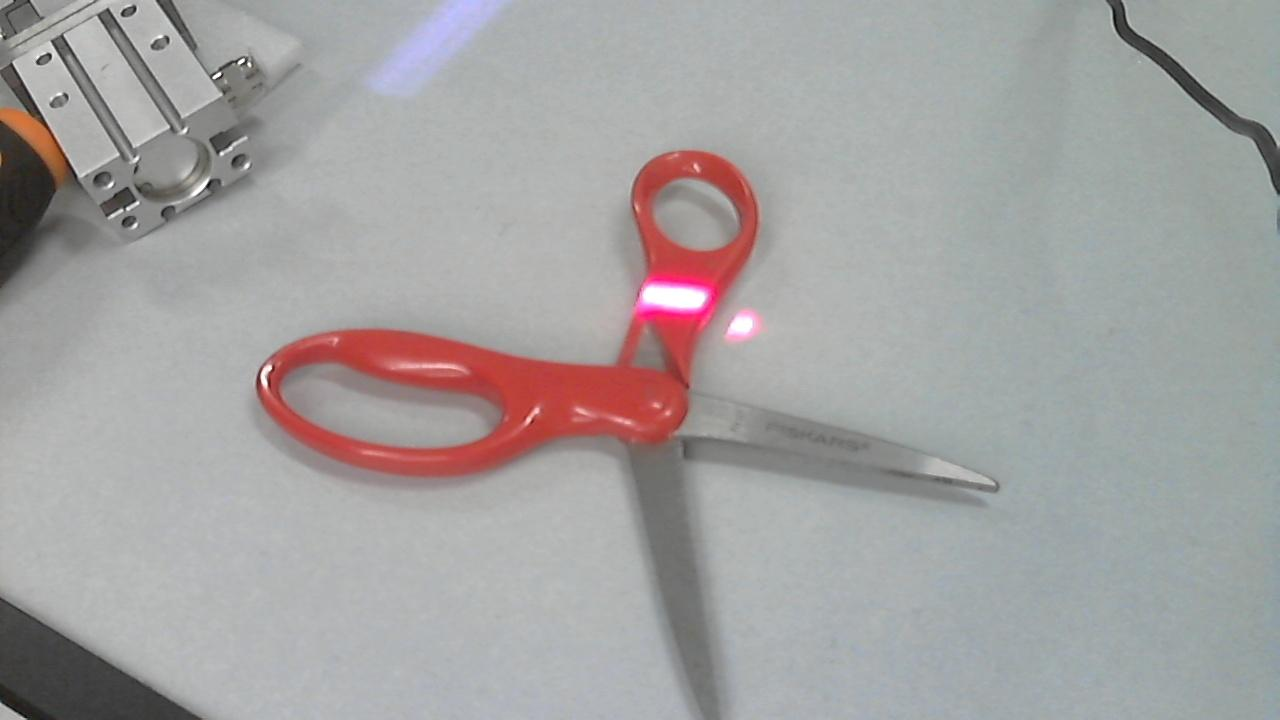Object scissors - Material plastic - Pdfname tYexGlkiIXWc: (628, 267, 723, 313)
